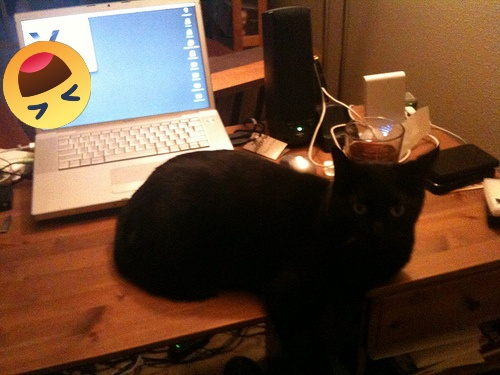haha: (3, 41, 91, 129)
